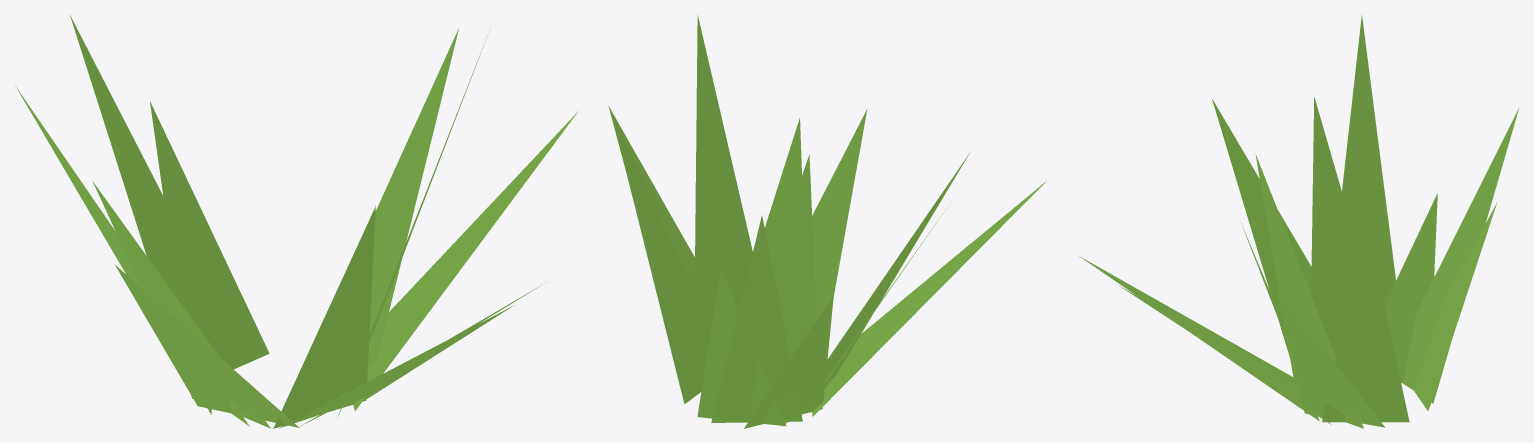
File: grass-tuft-a.glb
3 renders of one model, left to right at view 1: azimuth 30°, elevation 25°; view 2: azimuth 150°, elevation 25°; view 3: azimuth 270°, elevation 25°, orthographic. The views are drawn at different scales.
Parts seen in each view (by area): view 1: grass-tuft-a; view 2: grass-tuft-a; view 3: grass-tuft-a.
Boxes of the visible parts, left/top/right/bottom form: grass-tuft-a: left=15, top=15, right=578, bottom=428; grass-tuft-a: left=608, top=15, right=1046, bottom=428; grass-tuft-a: left=1079, top=15, right=1518, bottom=428.
Size of the model in its own units: 0.5135 by 0.3783 by 0.5048.
